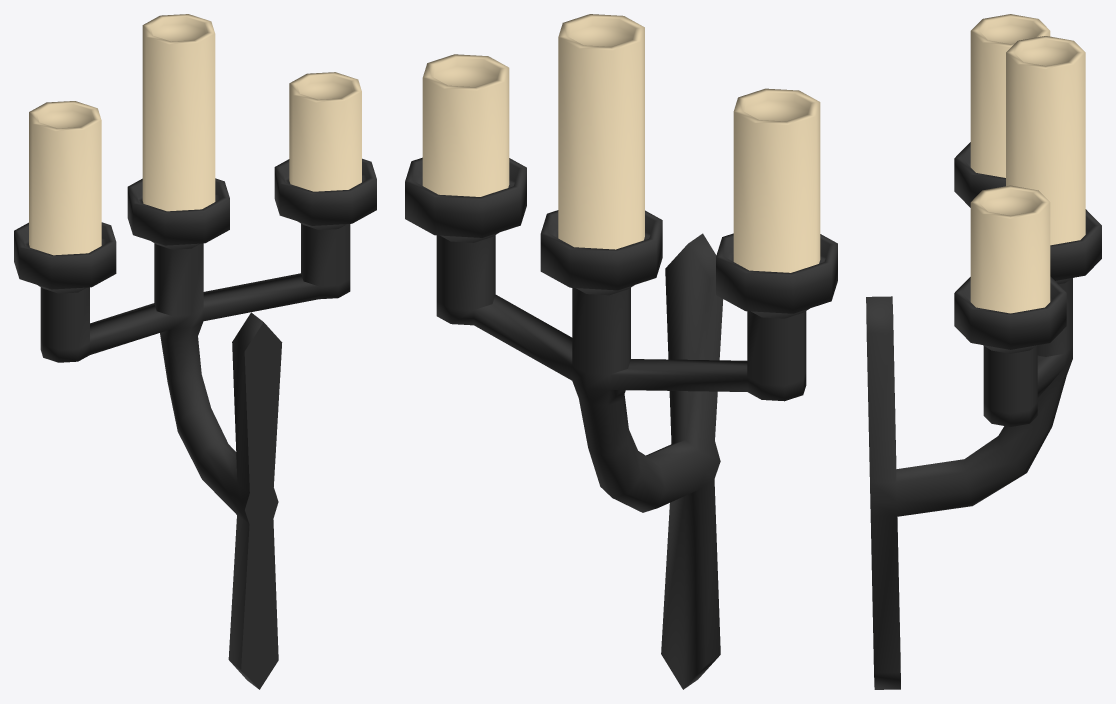
File: OBJETS_Chandelier_Mur_JAM_2024.fbx
The picture shows the model from 3 angles, left to right: view 1: azimuth 30°, elevation 25°; view 2: azimuth 150°, elevation 25°; view 3: azimuth 270°, elevation 25°; orthographic projection. The views are drawn at different scales.
Visible parts, largest first — view 1: Chandelier_mur; view 2: Chandelier_mur; view 3: Chandelier_mur.
Boxes of the visible parts, bbox=[...] form: Chandelier_mur: bbox=[14, 14, 376, 689]; Chandelier_mur: bbox=[405, 14, 837, 689]; Chandelier_mur: bbox=[866, 14, 1101, 689].
Bounding box in the file's own units: 31.96 × 52.17 × 17.5.
